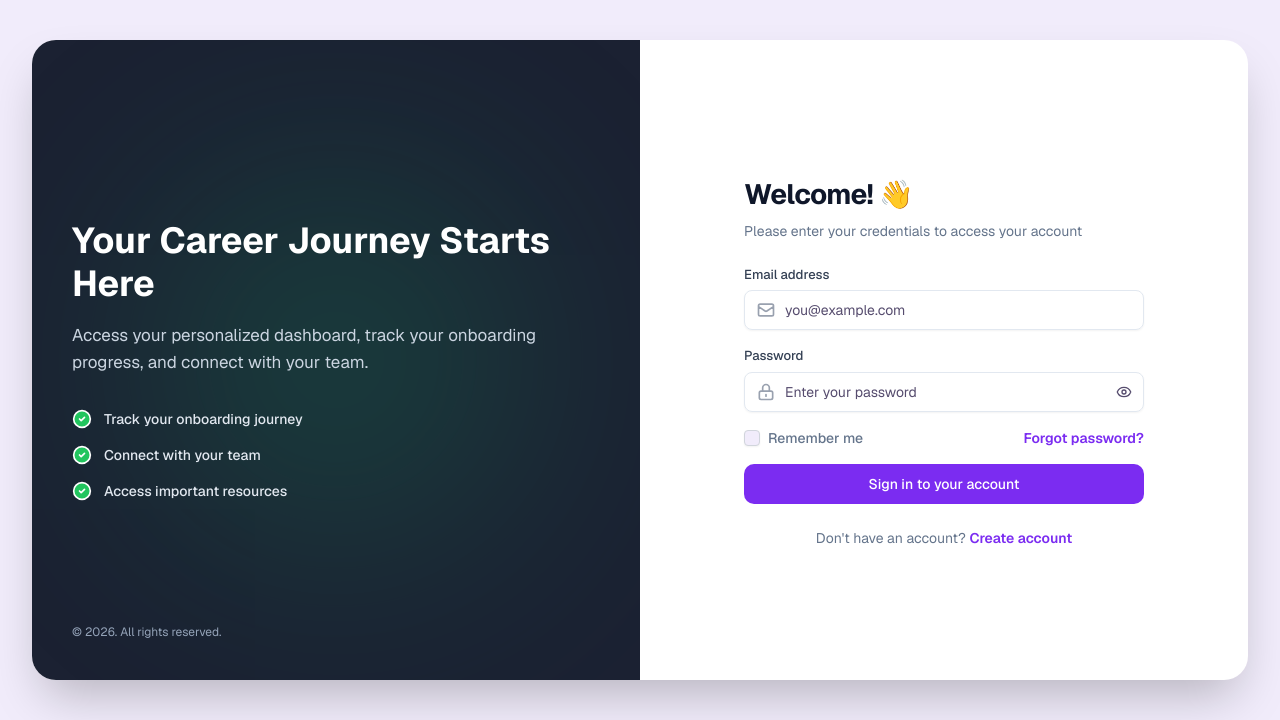
Test case: LoginPage – Successful Login › shows loading state ('Please wait...') during sign-in
Type "test@test.com" into the field with placeholder "you@example.com" at (944, 310), box [744, 290, 1144, 330]
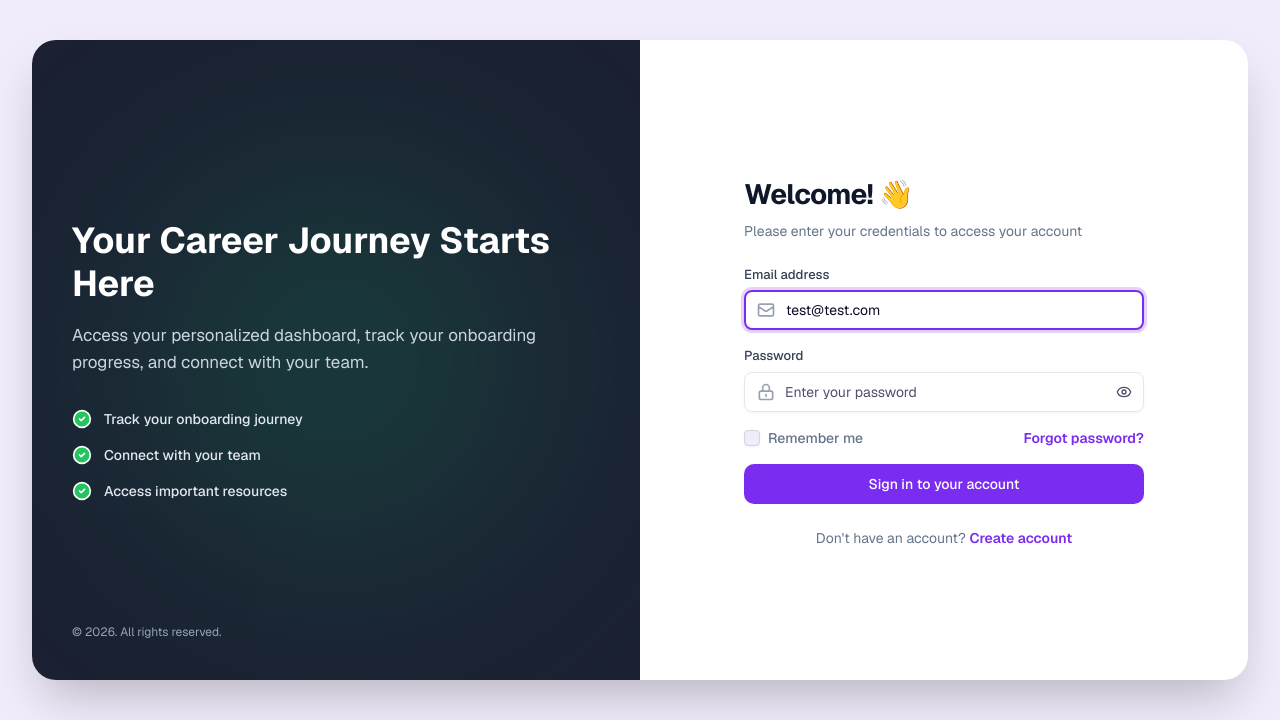
Type "pass" into the password field with placeholder "Enter your password" at (944, 392), box [744, 372, 1144, 412]
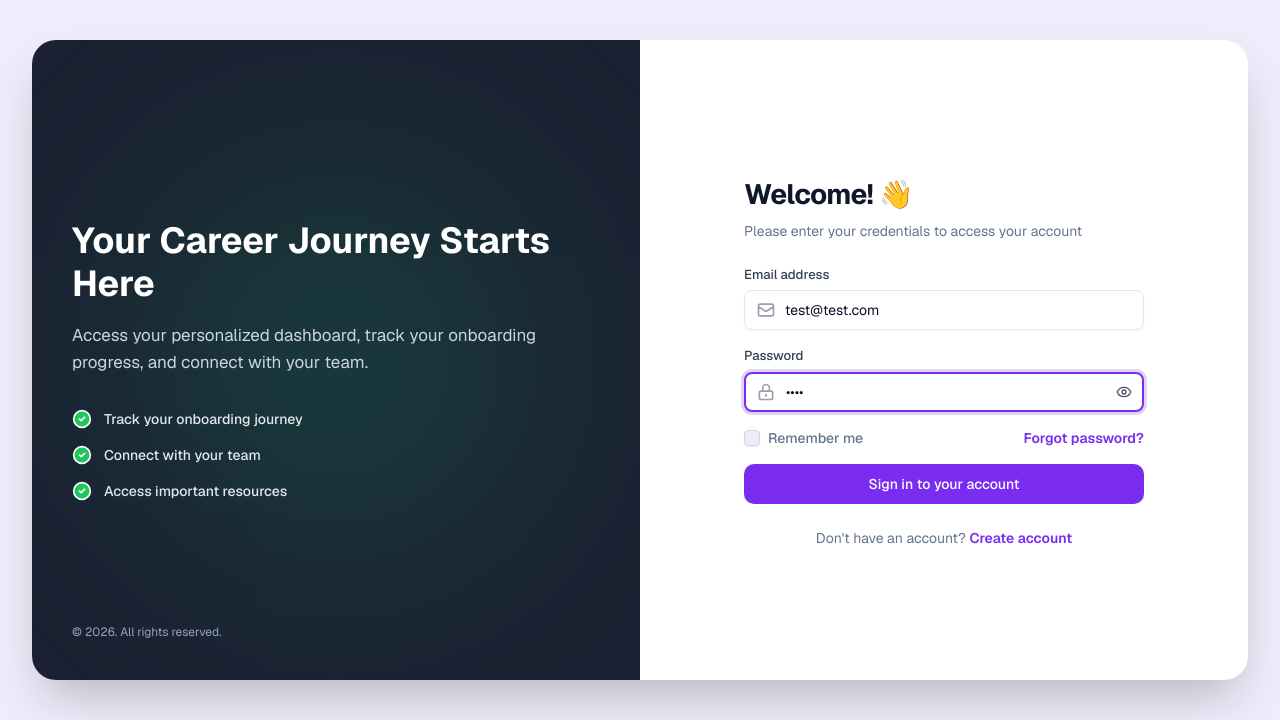
Click the button "Sign in to your account" at (944, 484), box [744, 464, 1144, 504]
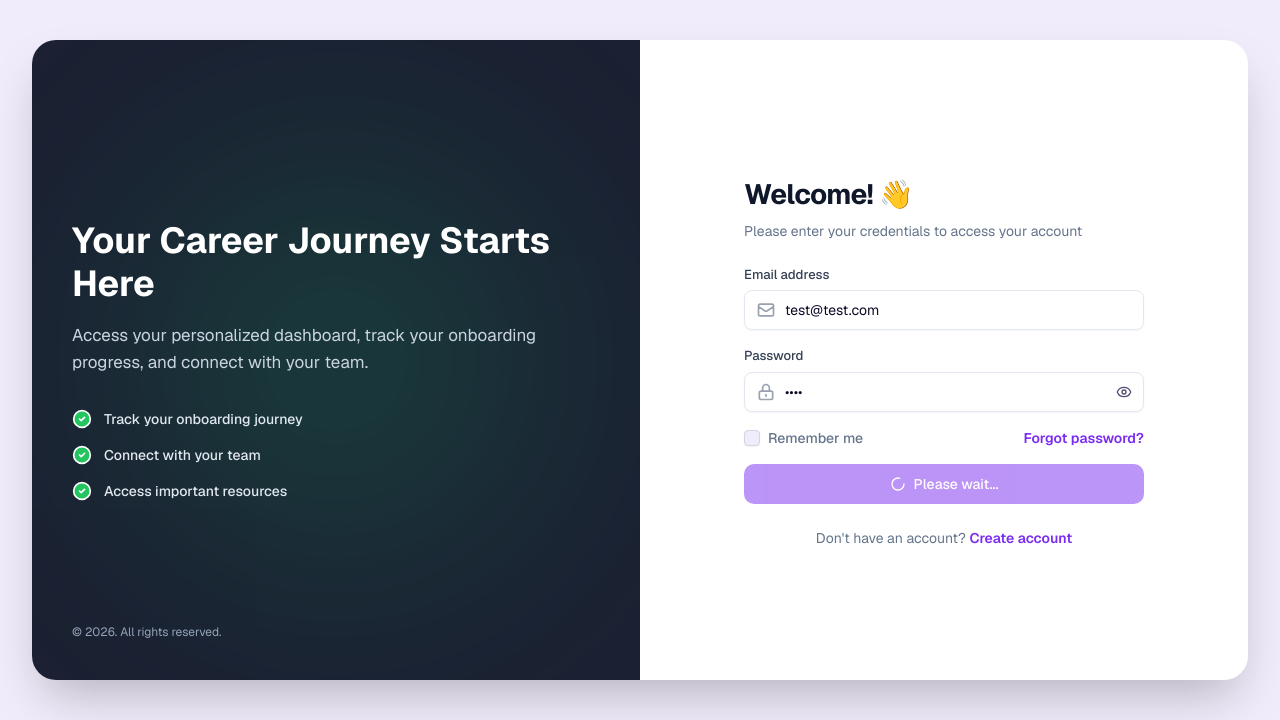
Expected: the button "Please wait..." is shown, [744, 464, 1144, 504]
